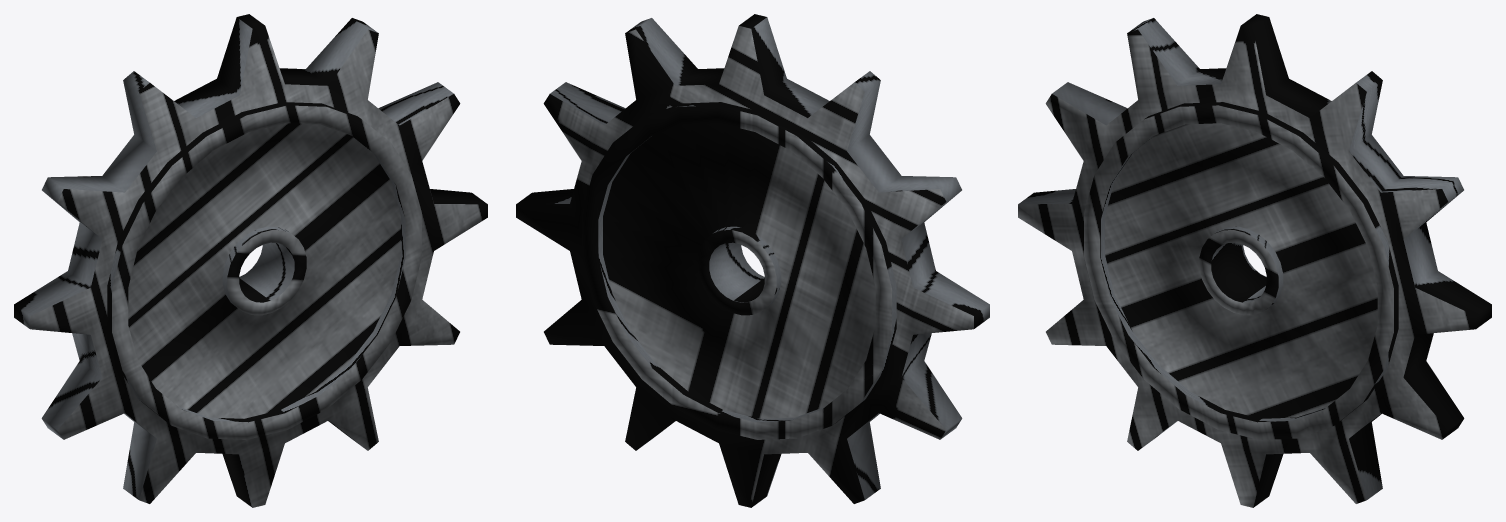
Rendered from creation-gear.glb.
3 renders of one model, left to right at view 1: azimuth 30°, elevation 25°; view 2: azimuth 150°, elevation 25°; view 3: azimuth 330°, elevation 25°, orthographic.
Visible parts, largest first — view 1: creation-gear; view 2: creation-gear; view 3: creation-gear.
Boxes of the visible parts, x1=… form: creation-gear: x1=14, y1=14, x2=487, y2=507; creation-gear: x1=516, y1=14, x2=989, y2=507; creation-gear: x1=1018, y1=14, x2=1491, y2=507.
Size of the model in its own units: 0.7 by 0.7 by 0.0847.
1 material, 1 textured.
